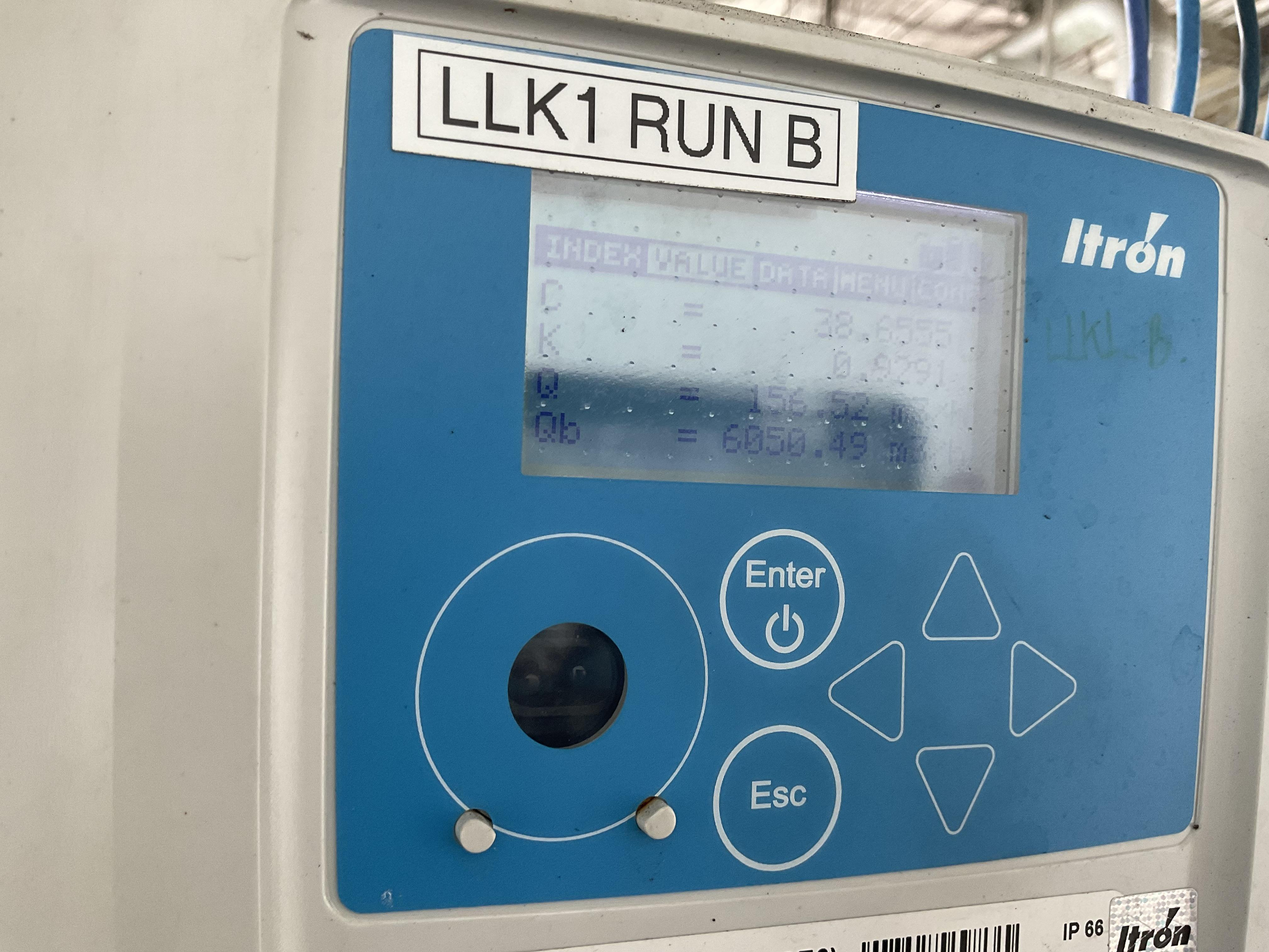digital_screen: (518, 167, 1033, 497)
